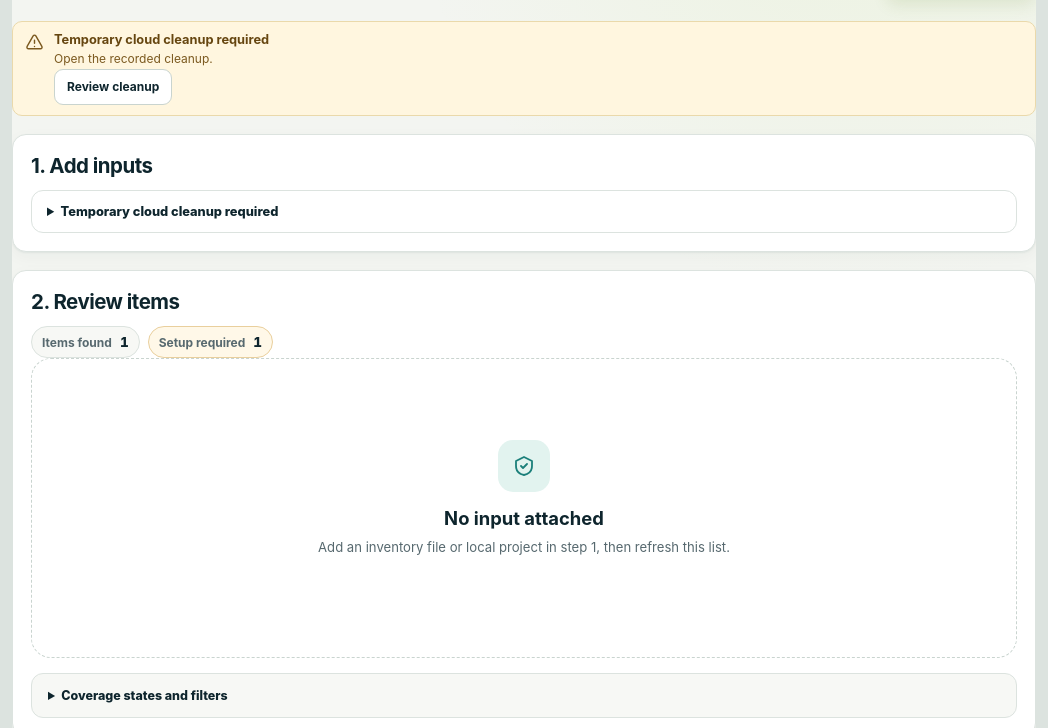
it: an unresolved cleanup record remains actionable when its provider source is missing
Expected: the heading "Temporary cloud cleanup required" is shown, [60, 204, 278, 219]
Click the button "Review cleanup".
click(113, 87)  # box [54, 69, 172, 105]
(page scrolled)
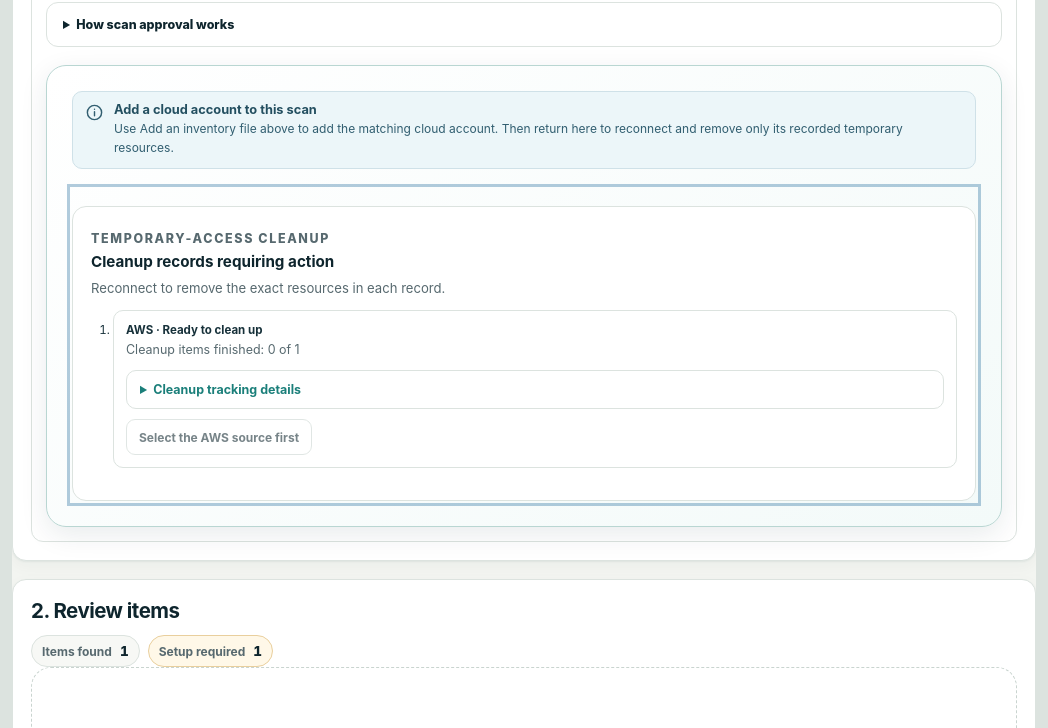
Now the text "Use Add an inventory file above to add the matching cloud account. Then return here to reconnect and remove only its rec" is shown, box [114, 122, 903, 155]
Now the heading "Cleanup records requiring action" is shown, box [91, 252, 334, 271]
Now the button "Select the AWS source first" is disabled, box [126, 419, 312, 455]
